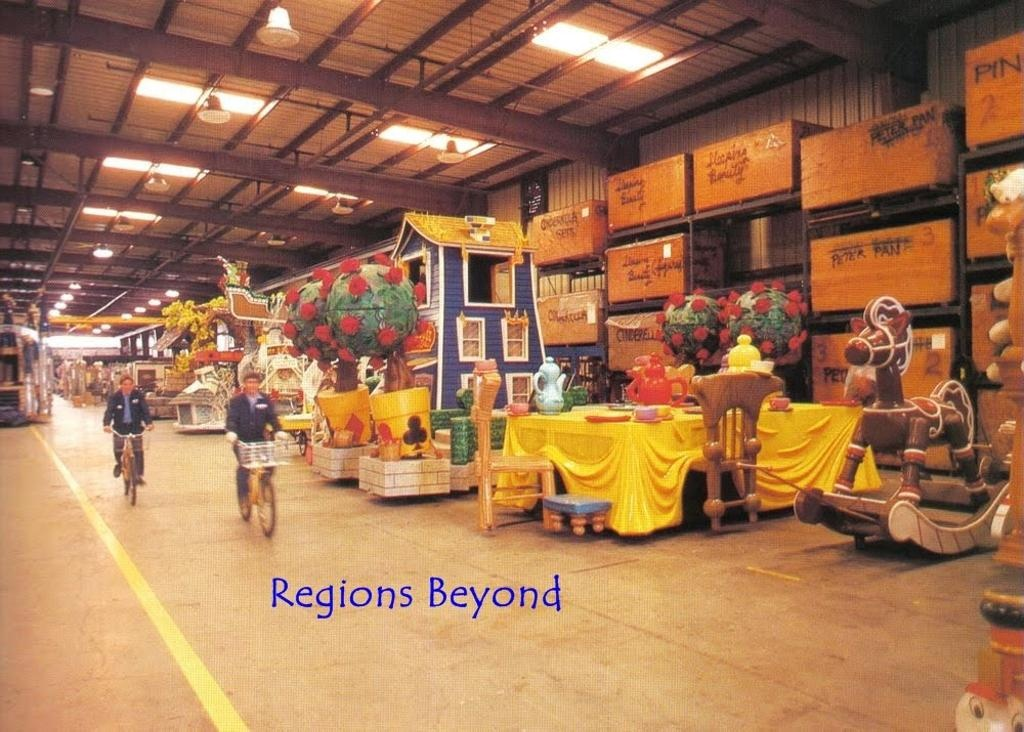human_face: (246, 378, 258, 392), (122, 380, 132, 392)
